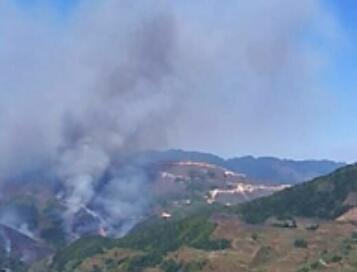yanwu: (0, 1, 313, 235)
